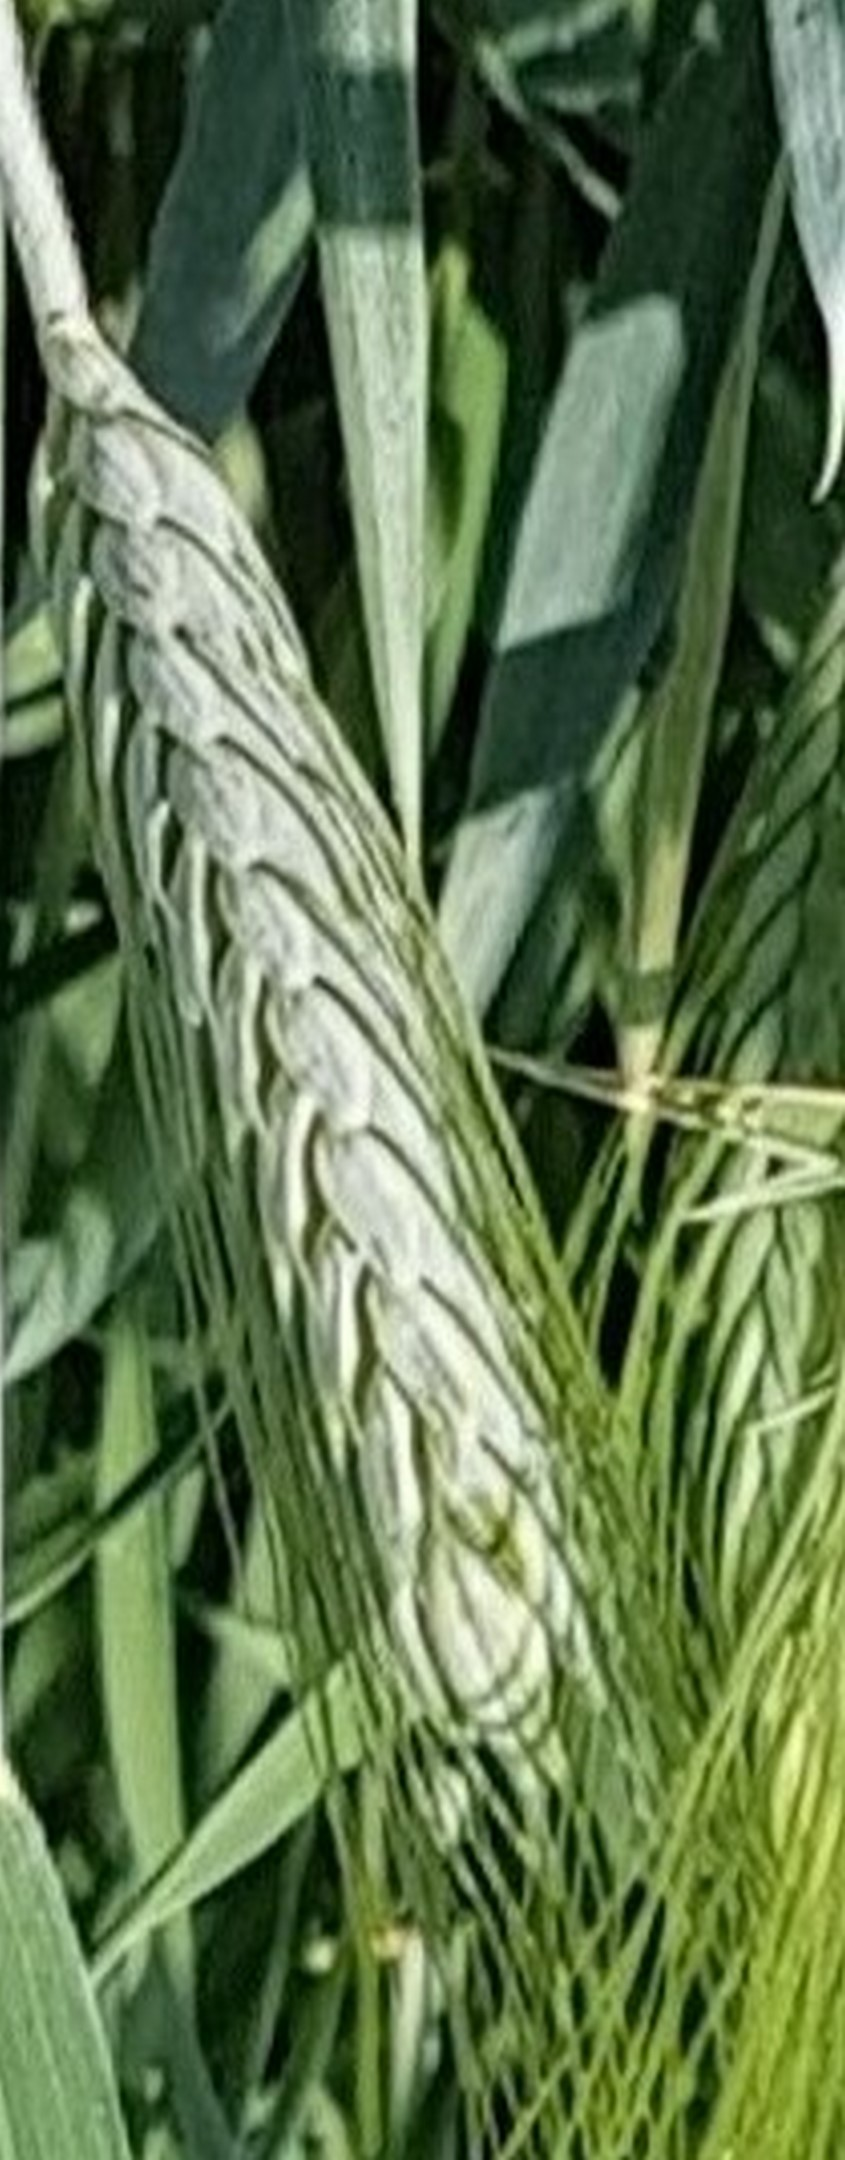Healthy Wheat: (51, 366, 630, 1749)
